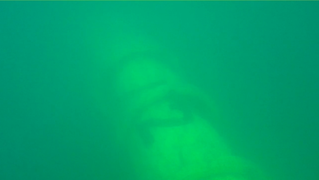2: (136, 102, 194, 147)
pipe: (89, 1, 266, 179)
